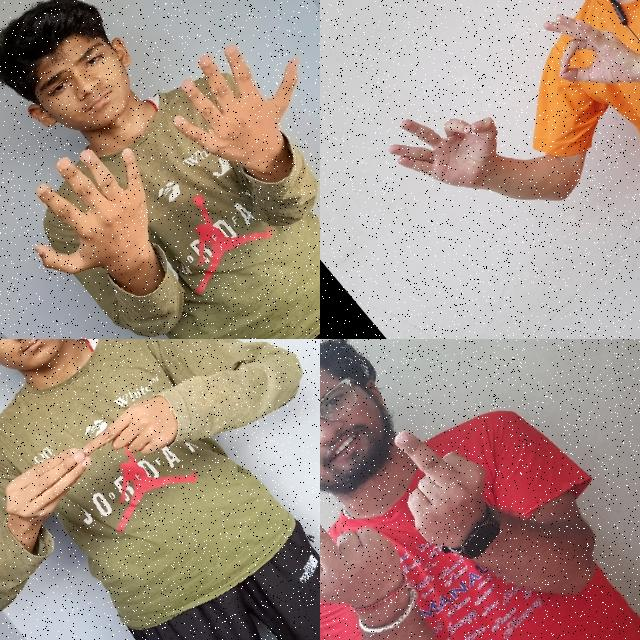Five Fathers: (0, 361, 201, 565)
Middle Finger: (352, 397, 534, 586), (320, 462, 450, 640)
Moutza: (0, 112, 199, 320), (143, 4, 320, 214)
Okay: (362, 61, 534, 237), (517, 0, 640, 130)
